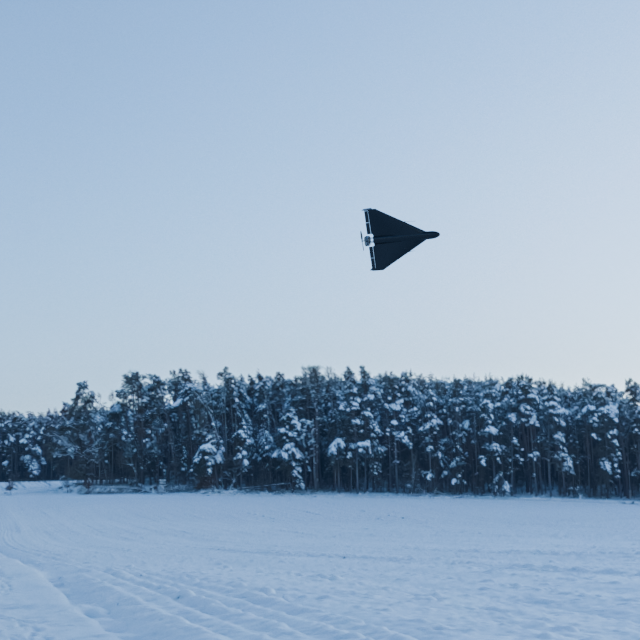shahed: (360, 208, 440, 271)
